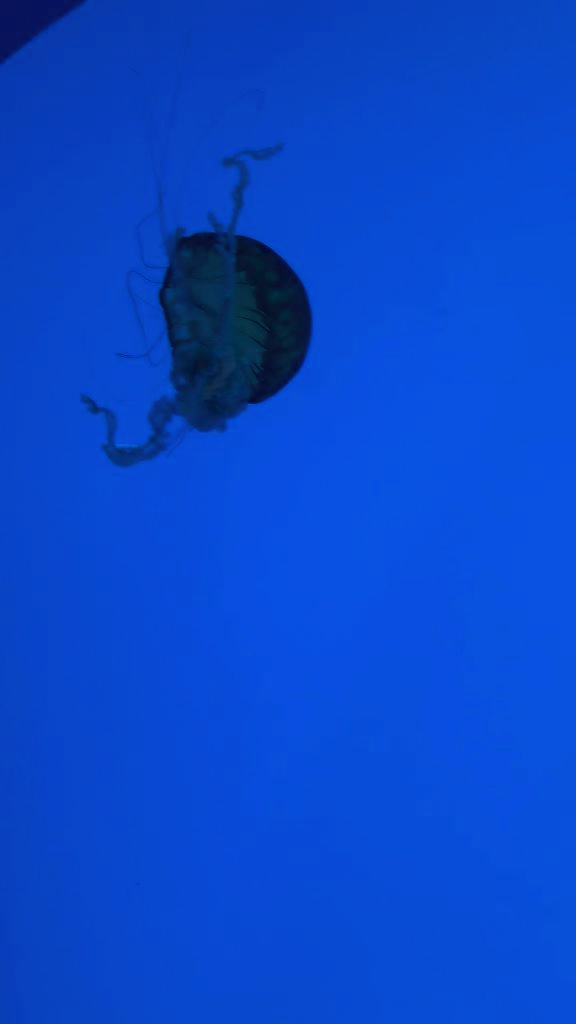jellyfish: (160, 226, 314, 432)
